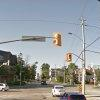Traffic light: (48, 27, 77, 66)
